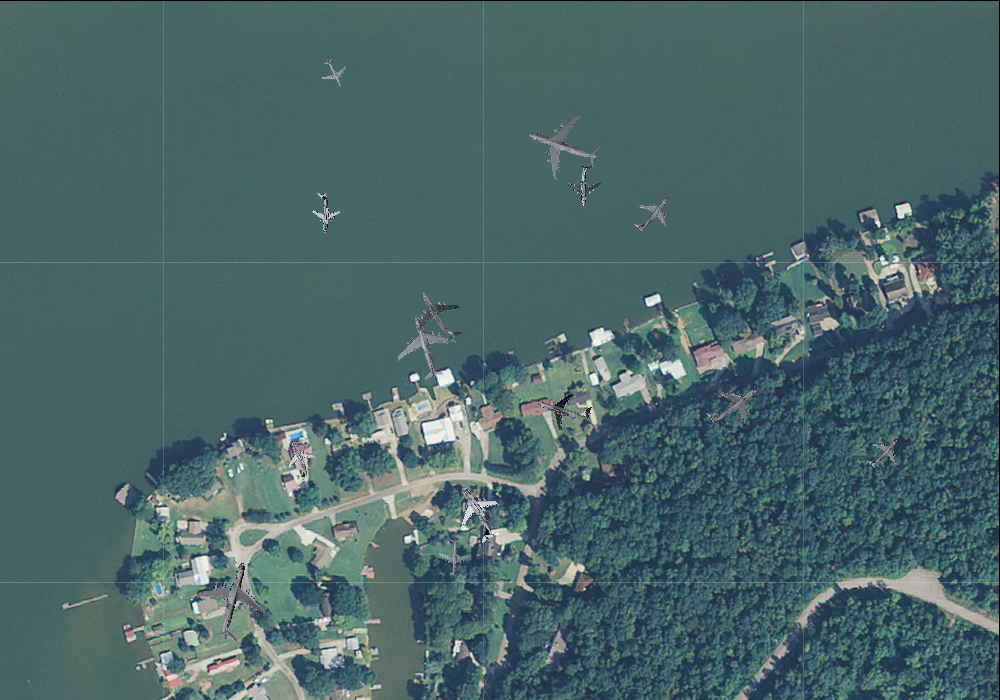plane: (186, 553, 280, 650), (516, 100, 610, 191), (386, 306, 464, 387), (437, 473, 514, 552), (400, 275, 476, 353), (695, 366, 771, 441), (531, 378, 597, 439), (624, 184, 681, 242), (858, 426, 910, 478), (274, 435, 322, 486), (565, 165, 604, 205), (305, 191, 342, 233), (314, 53, 353, 92), (437, 538, 471, 574)
